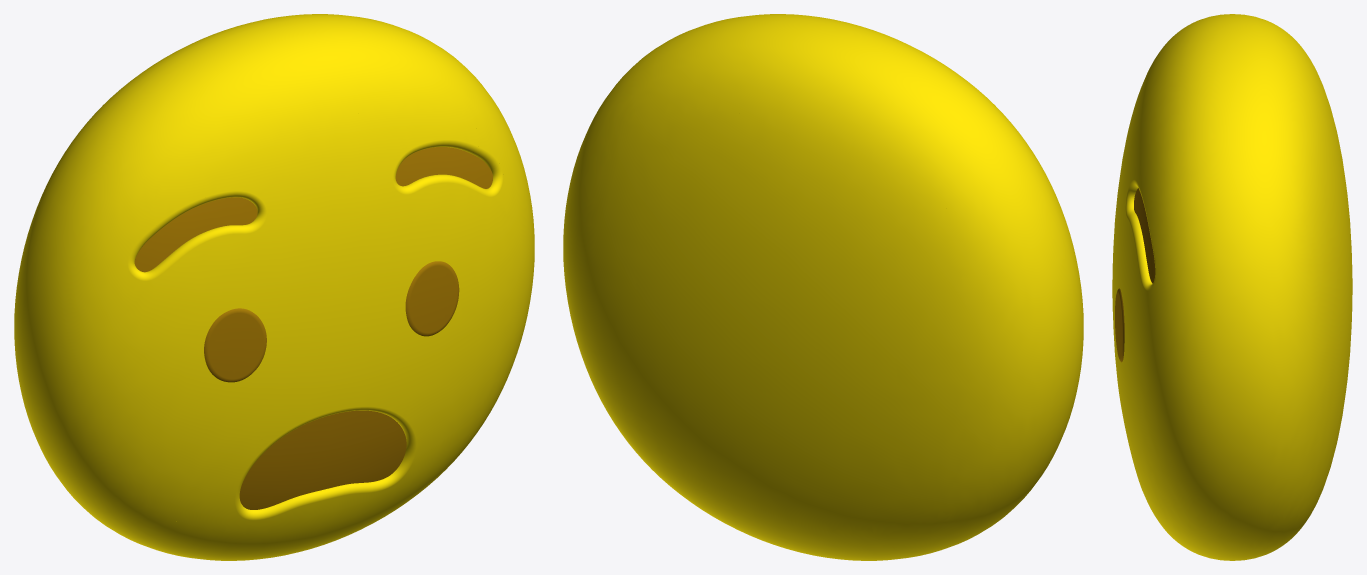
3 views of the same model, side by side, from view 1: azimuth 30°, elevation 25°; view 2: azimuth 150°, elevation 25°; view 3: azimuth 270°, elevation 25° (orthographic). The views are drawn at different scales.
Parts seen in each view (by area): view 1: 005_SmileEmoji5; view 2: 005_SmileEmoji5; view 3: 005_SmileEmoji5.
Boxes of the visible parts, x1,y1,x2,y2 form: 005_SmileEmoji5: [14, 14, 534, 560]; 005_SmileEmoji5: [563, 14, 1083, 560]; 005_SmileEmoji5: [1112, 14, 1352, 560].
Size of the model in its own units: 0.1561 by 0.1561 by 0.0696.
